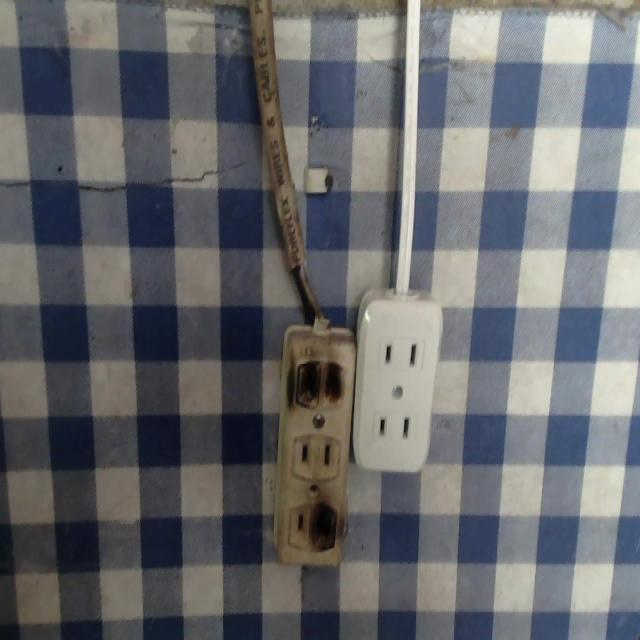-: (291, 355, 350, 409), (308, 497, 340, 555)
